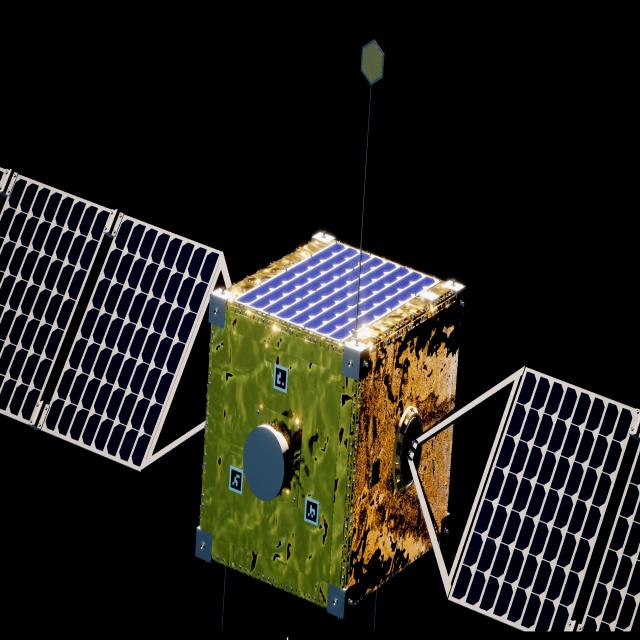medium_debris: (0, 167, 640, 635)
